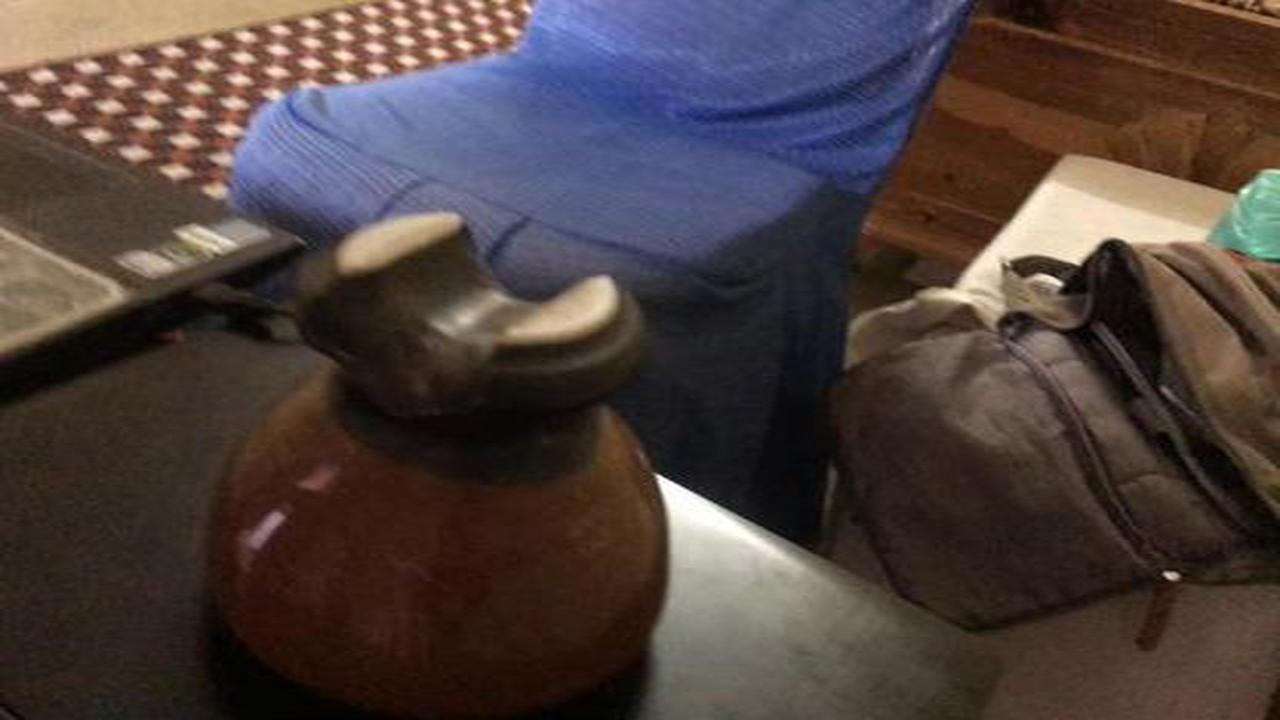insulator_pin: (194, 191, 705, 717)
